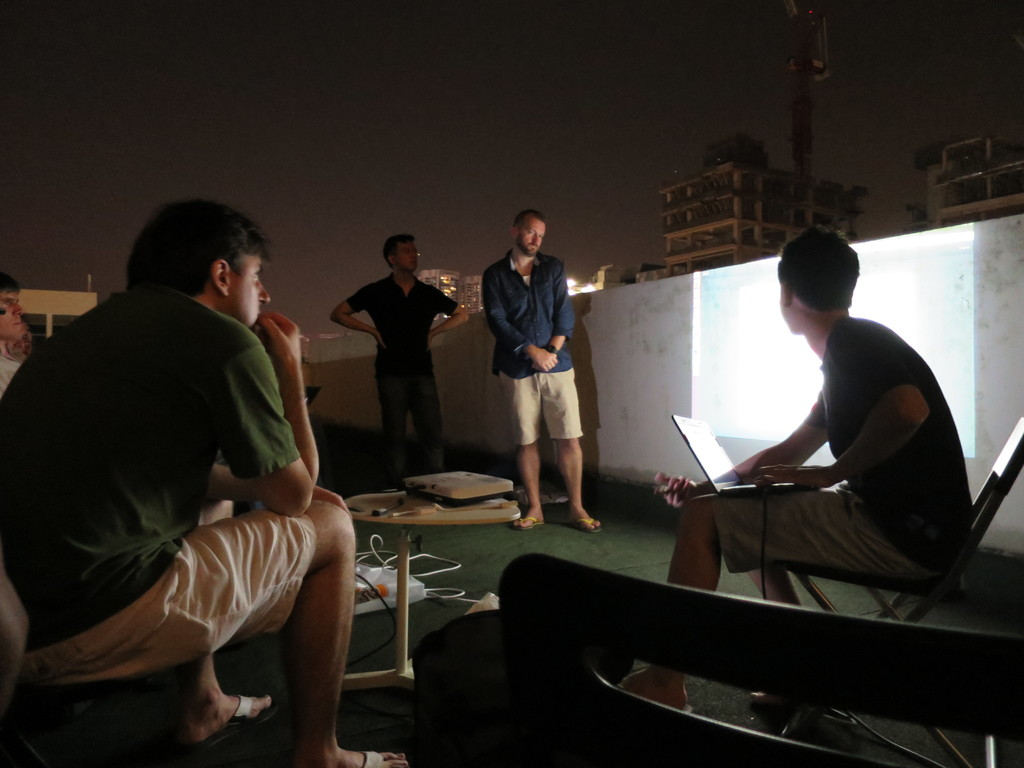Human_hand: (255, 311, 303, 371), (753, 465, 831, 494), (655, 471, 696, 514), (312, 490, 351, 512), (529, 348, 562, 371), (374, 330, 385, 349), (430, 333, 436, 348)
